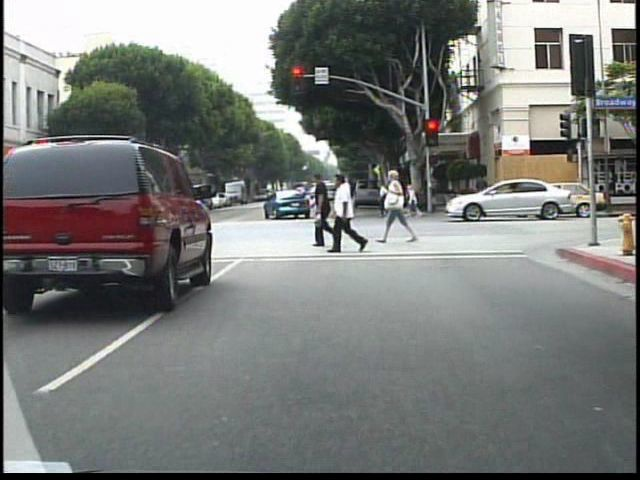person: (325, 171, 371, 255), (382, 168, 414, 247), (314, 168, 338, 253), (336, 175, 357, 222), (472, 169, 492, 215), (335, 174, 354, 222), (148, 183, 165, 232), (126, 185, 144, 229), (3, 196, 21, 239), (328, 180, 347, 220), (377, 179, 390, 221), (4, 199, 18, 236)
